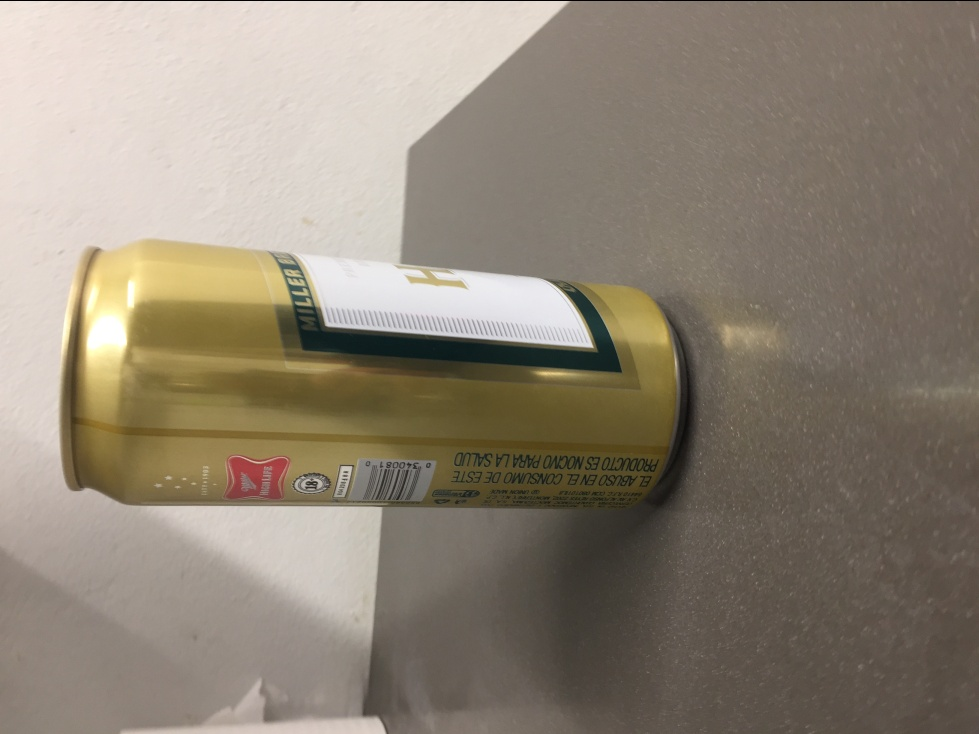miller: (56, 236, 690, 522)
